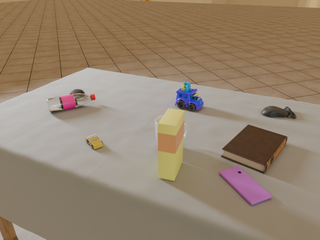book: (221, 125, 287, 173)
bottle: (47, 94, 95, 112)
box: (158, 109, 185, 181)
mouse: (261, 106, 296, 118)
phone: (219, 166, 272, 205)
toy_car: (175, 82, 204, 111), (86, 134, 103, 149)
